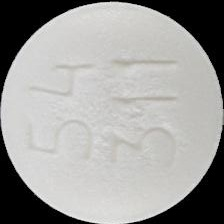54868-5945: (0, 0, 224, 224)
